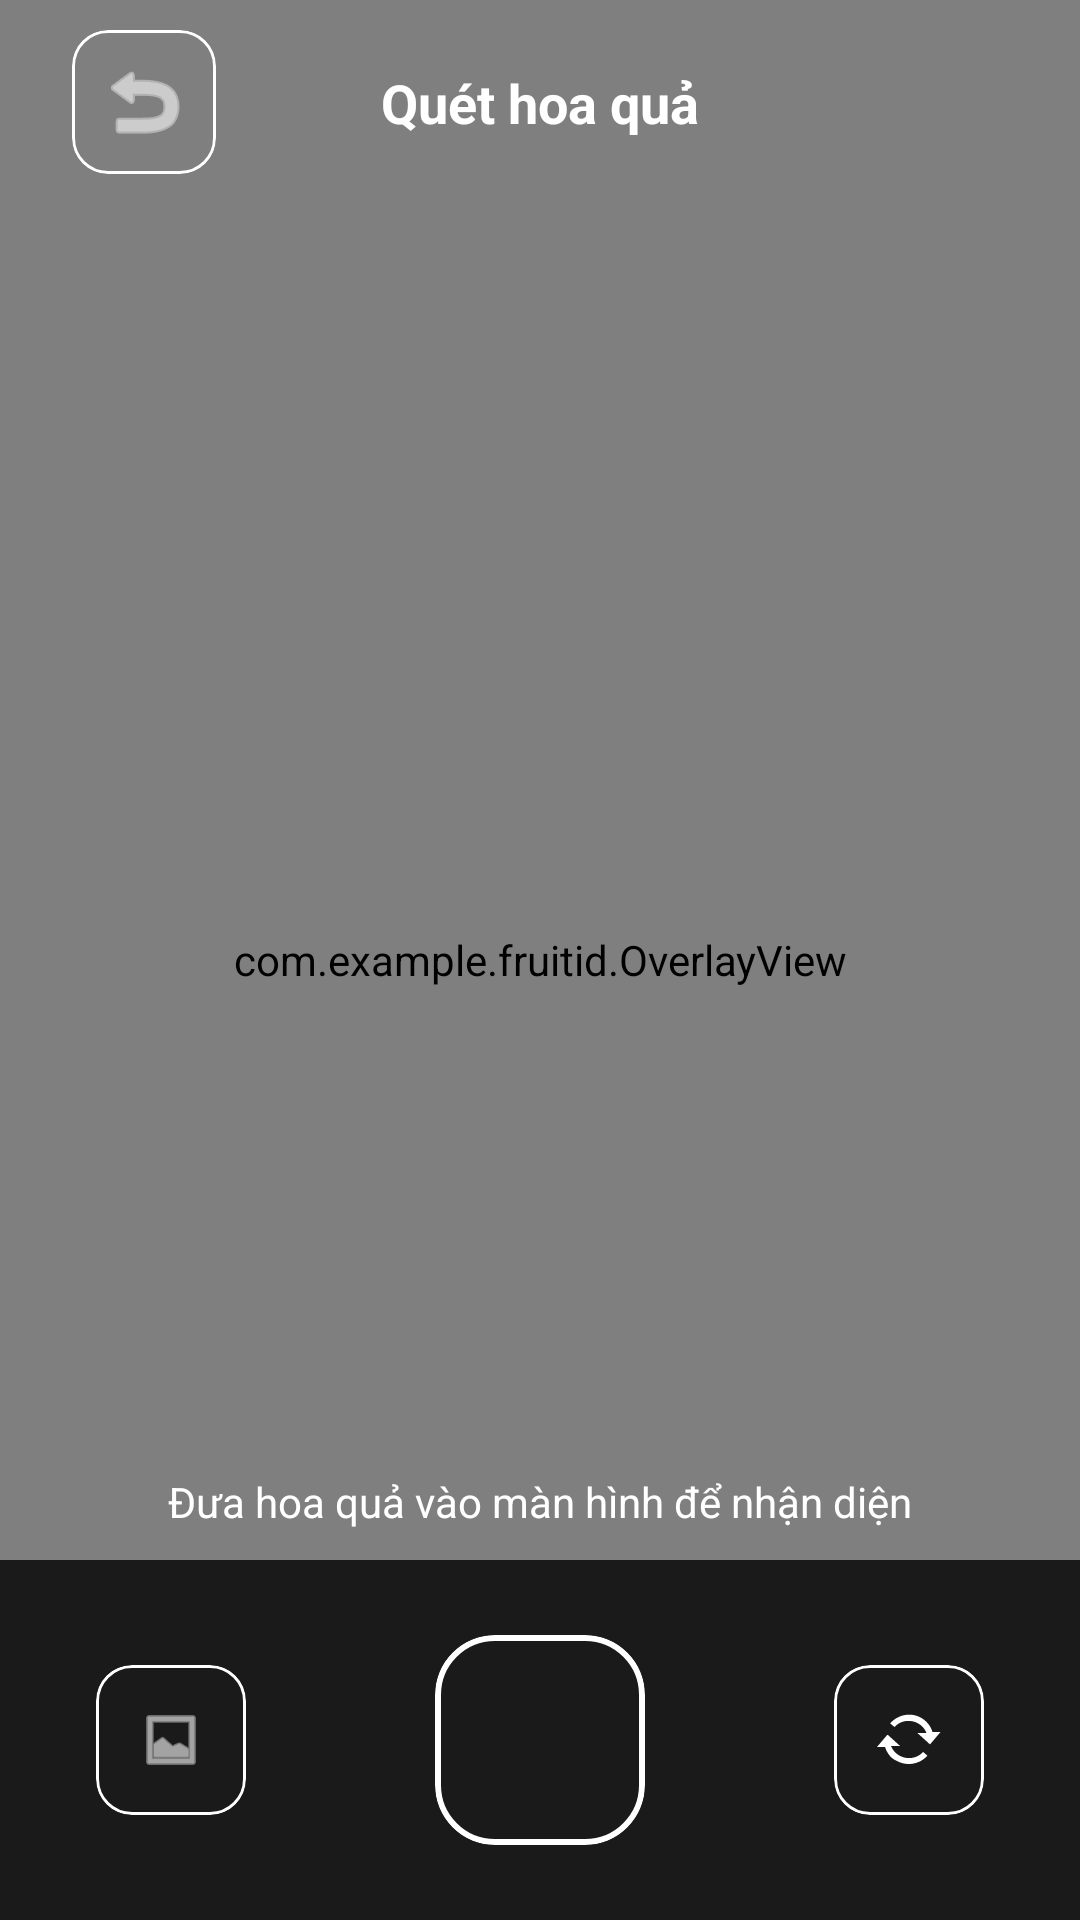

Where icons sit on this 1080*1920 app screen, as Rect(x1, y1, x2, y2):
gallery: Rect(146, 1715, 196, 1765)
revert: Rect(111, 72, 180, 134)
sync: Rect(877, 1714, 941, 1764)
